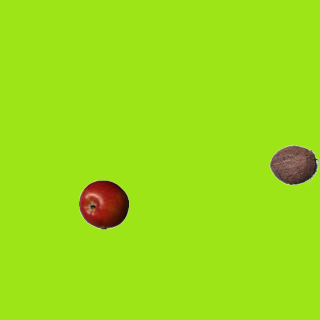Apple Braeburn: (78, 179, 128, 229)
Cocos: (268, 139, 318, 189)
